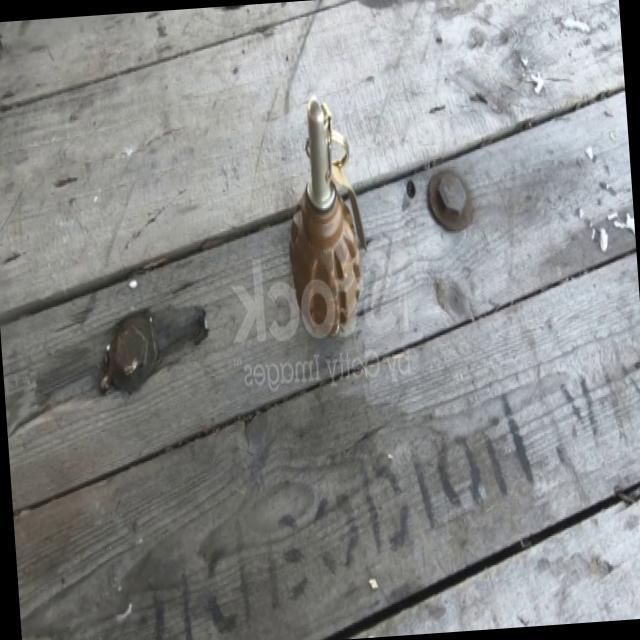grenade: (277, 100, 373, 333)
